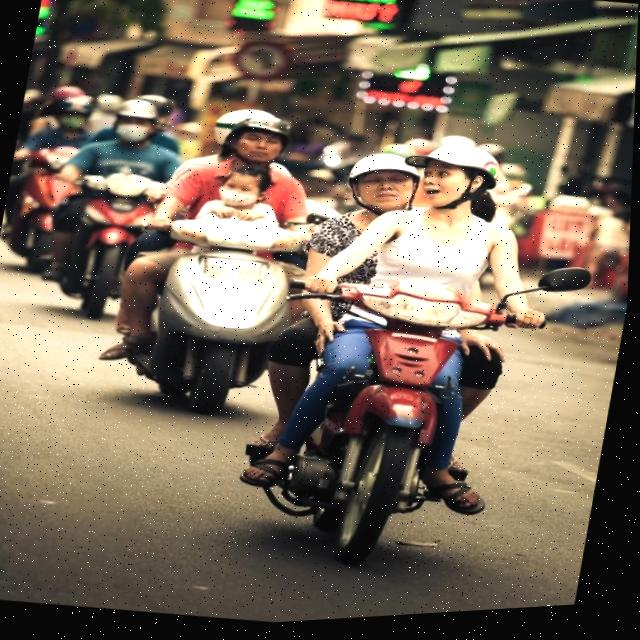motorcycle: (231, 228, 596, 605), (106, 185, 310, 433), (48, 150, 168, 330), (0, 115, 91, 285)
